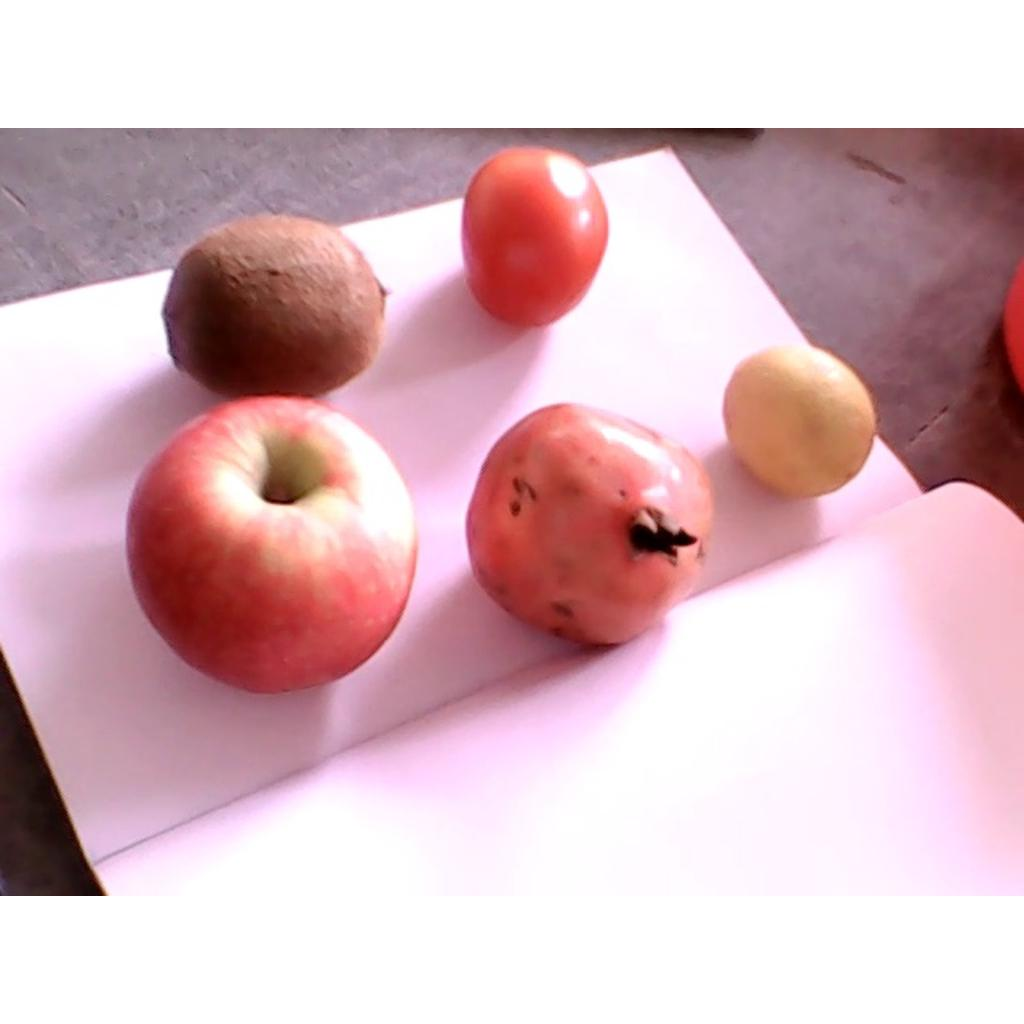apple: (127, 396, 418, 694)
kiwi: (161, 213, 387, 396)
lemon: (723, 344, 879, 497)
pomegranate: (468, 404, 714, 645)
tomato: (462, 146, 608, 327)
